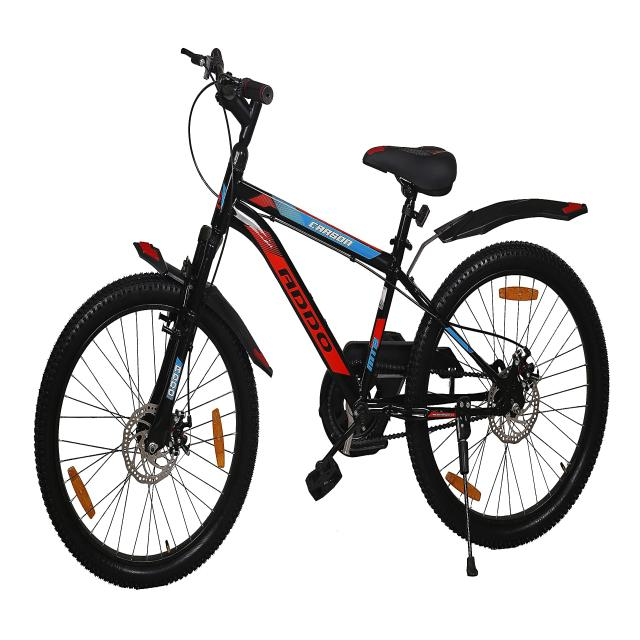bicycle: (35, 49, 609, 589), (432, 199, 586, 242)
